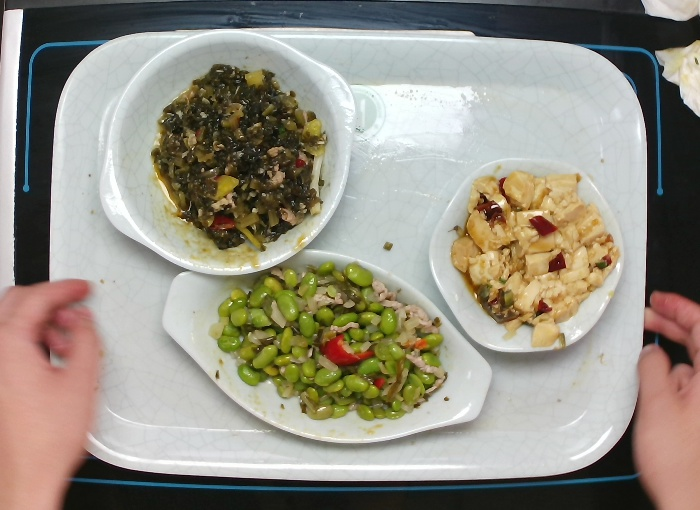JYsf-Shuang_Er_Wan: (98, 25, 355, 280)
JYsf-Yu_Pan: (156, 246, 498, 449)
WCQzf-Hua_Duo_Wan: (420, 155, 627, 359)
